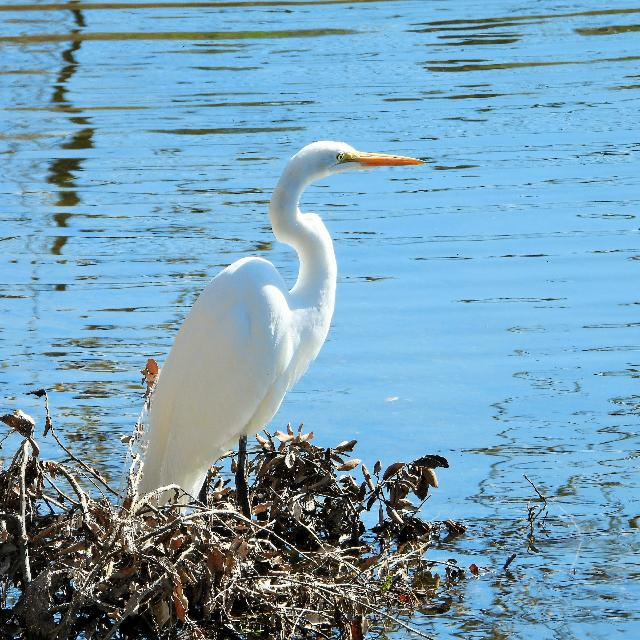egret: (128, 137, 424, 485)
